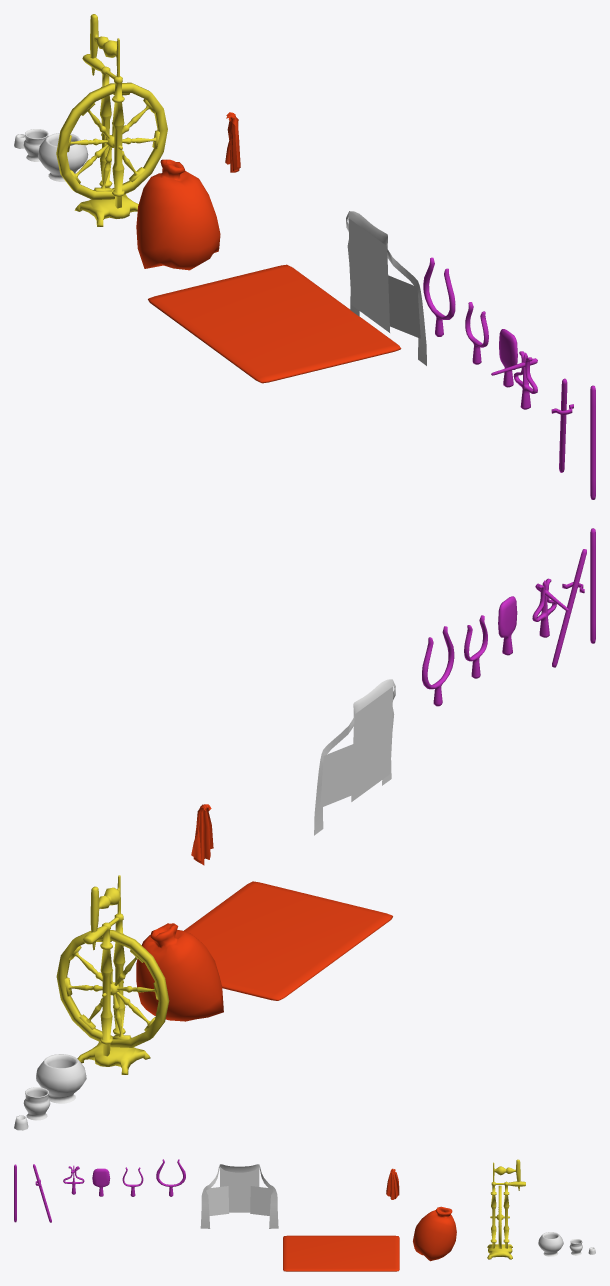
The model's file is instruments.fbx.
3 views of the same model, one above another, from view 1: azimuth 30°, elevation 25°; view 2: azimuth 150°, elevation 25°; view 3: azimuth 270°, elevation 25° (orthographic). The views are drawn at different scales.
Parts seen in each view (by area): view 1: rug, vereteno, b_bag.001, icon_Main, icon_left, icon_curtains, dish3, det1, det4, det3, towel, det11 (+2 smaller); view 2: rug, vereteno, b_bag.001, icon_Main, dish3, icon_right, icon_curtains, towel, det1, det3, det11, det4; view 3: rug, b_bag.001, vereteno, icon_Main, icon_curtains, icon_right, icon_left, dish3, det3, towel, det1, det11 (+3 smaller).
Part boxes in pixels (left/top/right/bottom): rug: left=148, top=264, right=401, bottom=383; vereteno: left=56, top=14, right=167, bottom=226; b_bag.001: left=136, top=159, right=220, bottom=270; icon_Main: left=348, top=218, right=389, bottom=332; icon_left: left=388, top=275, right=420, bottom=338; icon_curtains: left=346, top=211, right=426, bottom=365; dish3: left=38, top=133, right=88, bottom=181; det1: left=423, top=257, right=455, bottom=336; det4: left=491, top=351, right=537, bottom=409; det3: left=499, top=329, right=517, bottom=387; towel: left=225, top=112, right=240, bottom=172; det11: left=551, top=378, right=573, bottom=472; rug: left=184, top=881, right=392, bottom=1000; vereteno: left=56, top=875, right=169, bottom=1074; b_bag.001: left=136, top=923, right=223, bottom=1021; icon_Main: left=351, top=687, right=393, bottom=801; dish3: left=36, top=1054, right=86, bottom=1103; icon_right: left=320, top=744, right=353, bottom=807; icon_curtains: left=314, top=679, right=395, bottom=835; towel: left=191, top=804, right=213, bottom=865; det1: left=422, top=626, right=454, bottom=706; det3: left=498, top=596, right=517, bottom=655; det11: left=552, top=549, right=586, bottom=667; det4: left=532, top=578, right=568, bottom=637; rug: left=283, top=1235, right=399, bottom=1271; b_bag.001: left=413, top=1206, right=456, bottom=1261; vereteno: left=487, top=1159, right=525, bottom=1259; icon_Main: left=220, top=1167, right=259, bottom=1212; icon_curtains: left=200, top=1164, right=278, bottom=1228; icon_right: left=250, top=1186, right=272, bottom=1215; icon_left: left=206, top=1186, right=229, bottom=1215; dish3: left=538, top=1232, right=563, bottom=1256; det3: left=92, top=1168, right=110, bottom=1196; towel: left=386, top=1168, right=399, bottom=1199; det1: left=156, top=1159, right=185, bottom=1196; det11: left=33, top=1164, right=51, bottom=1222.
Bounding box in the file's own units: 264 × 330 × 1832.
